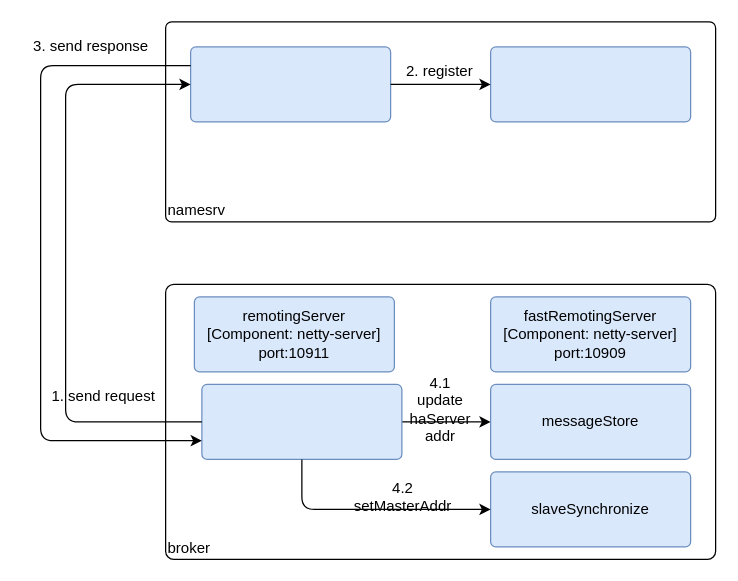
The diagram is 738 pixels wide and 581 high, and some of its shapes have lost their labels. The centre of each missing label's shape, as x and y in pixels:
"brokerOuterAPI [Component: netty-client ]" goes at (x=301, y=421).
"remotingServer [Component: netty ] port:9876" goes at (x=290, y=84).
"routeInfoManager [Component: Map ]" goes at (x=590, y=84).
